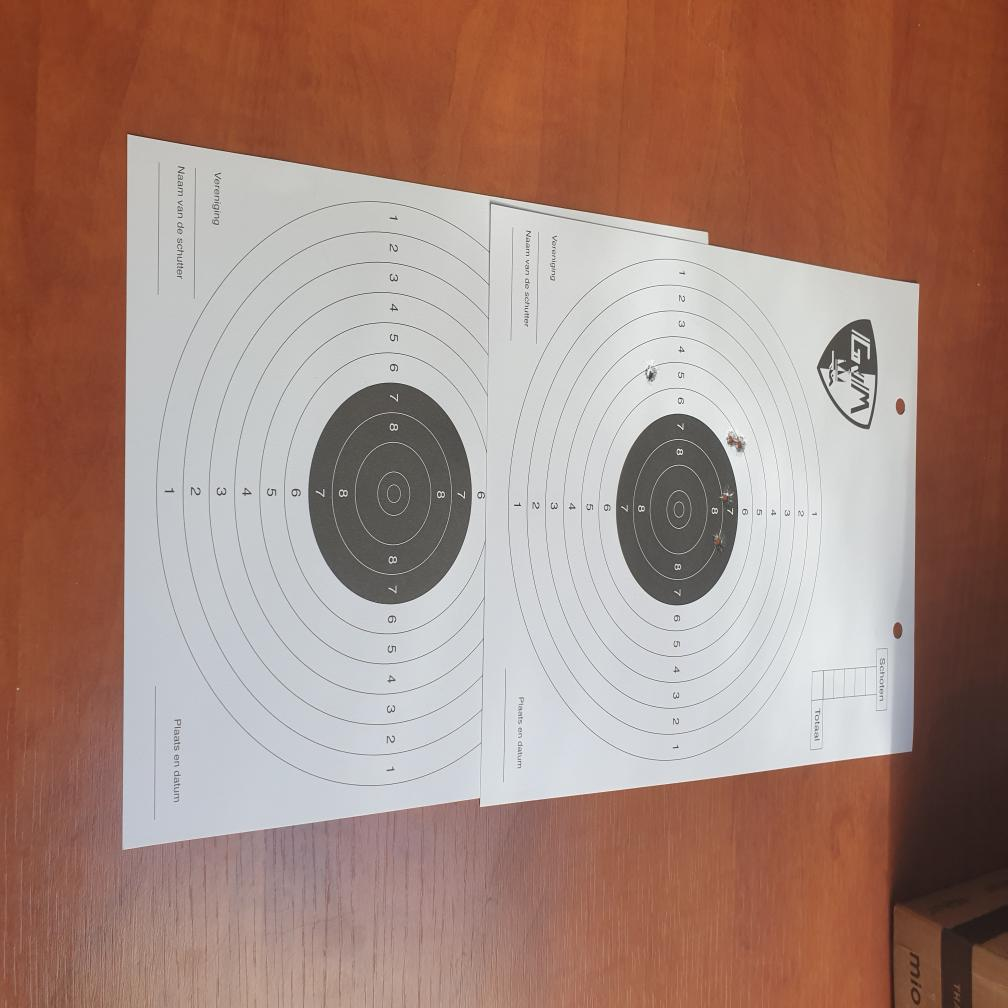5: (643, 363, 659, 383)
6: (736, 435, 747, 455), (725, 430, 736, 448)
8: (718, 487, 734, 510), (712, 534, 724, 555)
Target: (154, 197, 488, 789), (508, 254, 824, 764)
black_contour: (309, 381, 473, 606), (614, 412, 742, 607)
